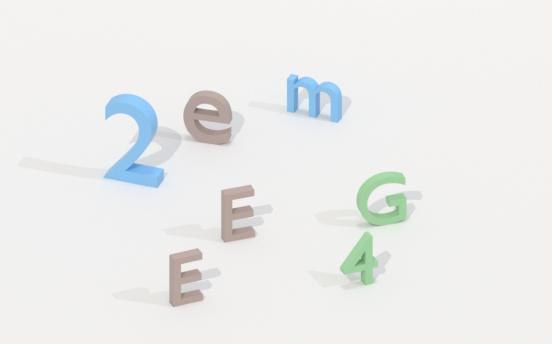chu_khoi: (356, 172, 406, 225), (183, 90, 232, 144), (286, 74, 342, 121), (169, 248, 203, 306), (221, 185, 255, 241)
so_khoi: (104, 94, 163, 186), (340, 232, 378, 284)
